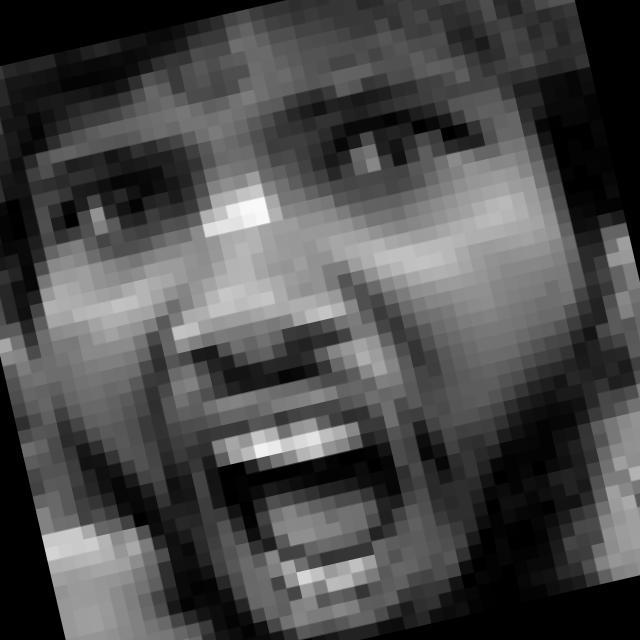angry: (25, 43, 592, 640)
